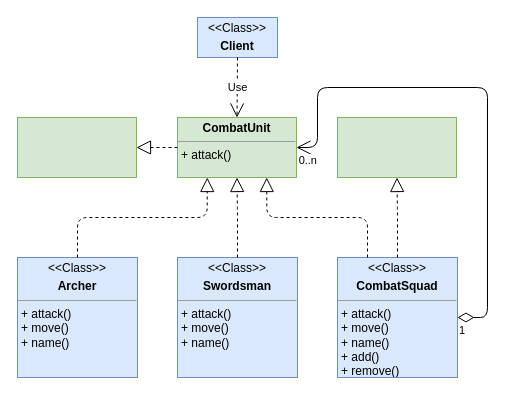
Image size: 522x395. Some labels were removed from this diagram. The centre of each missing label's shape, as x and y in pixels:
Squad + add() + remove(): pixel 396 147
Unit + move() + name(): pixel 76 147
